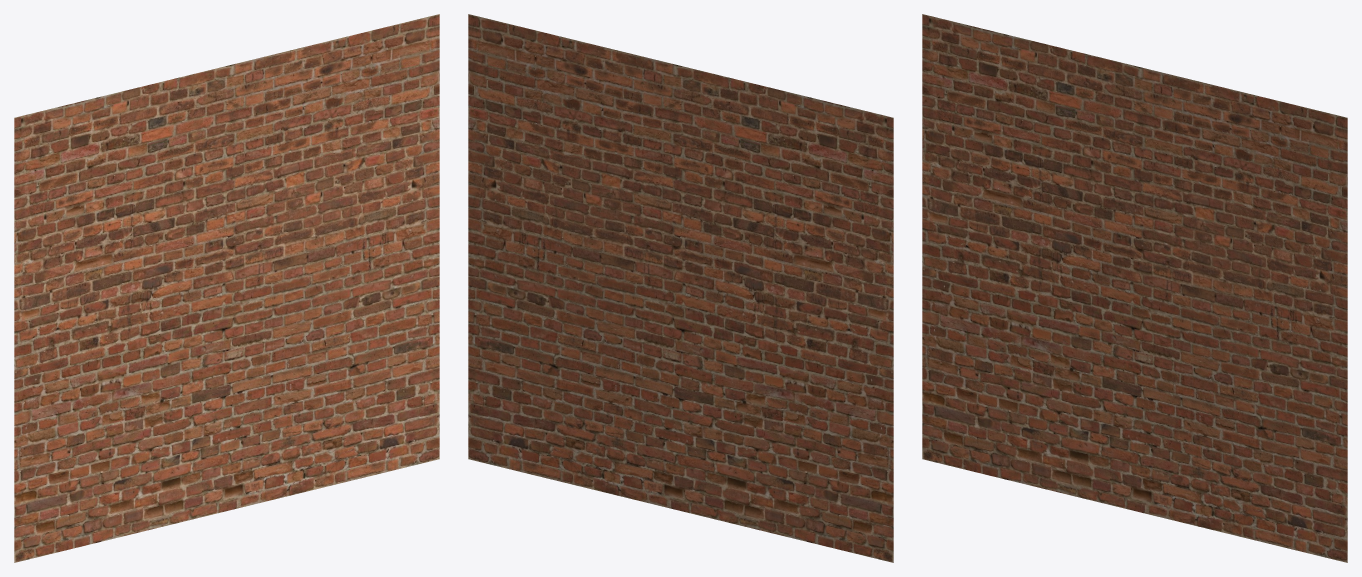
The model's file is Wall.glb.
3 views of the same model, side by side, from view 1: azimuth 30°, elevation 25°; view 2: azimuth 150°, elevation 25°; view 3: azimuth 330°, elevation 25° (orthographic).
Parts seen in each view (by area): view 1: Wall; view 2: Wall; view 3: Wall.
Boxes of the visible parts, x1,y1,x2,y2 form: Wall: (14,14,439,562); Wall: (468,14,893,562); Wall: (922,14,1347,562).
Bounding box in the file's own units: 3.99 × 3.99 × 0.0271.
Materials: 1 (1 with a texture image).
